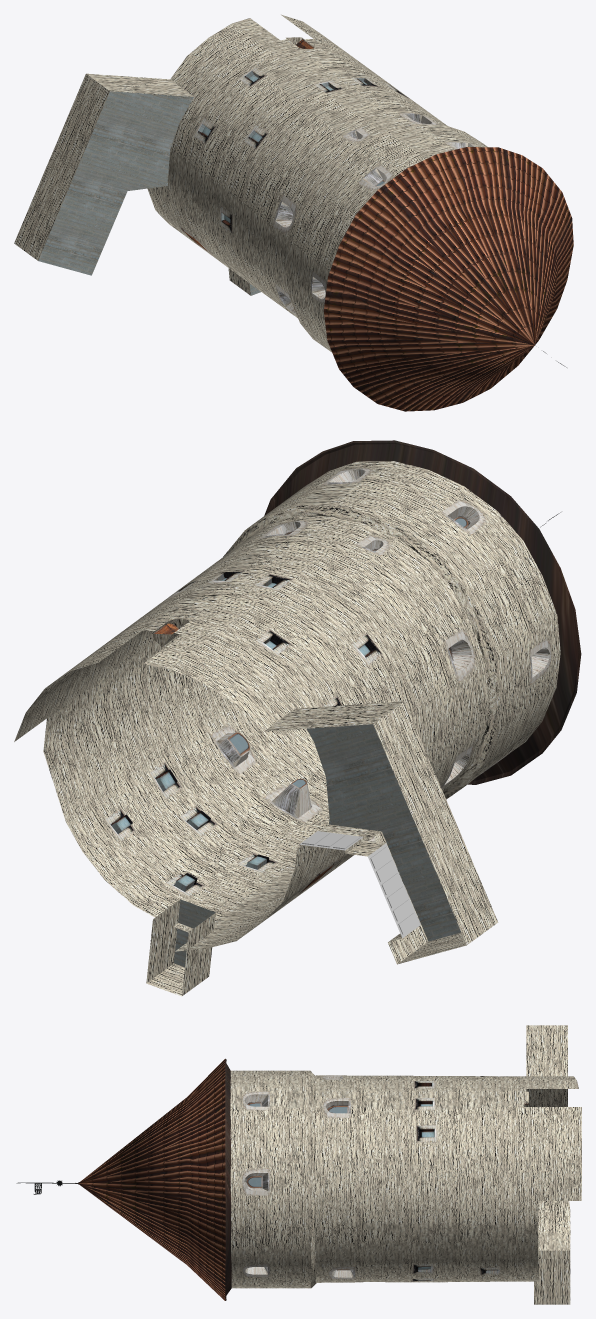
File: Komandandi_2.obj
The picture shows the model from 3 angles, top to bottom: view 1: azimuth 30°, elevation 25°; view 2: azimuth 150°, elevation 25°; view 3: azimuth 270°, elevation 25°; orthographic projection. The views are drawn at different scales.
Visible parts, largest first — view 1: Komandandi_2; view 2: Komandandi_2; view 3: Komandandi_2.
Boxes of the visible parts, left/top/right/bottom form: Komandandi_2: left=14, top=14, right=573, bottom=411; Komandandi_2: left=14, top=440, right=581, bottom=996; Komandandi_2: left=16, top=1025, right=581, bottom=1304.
Size of the model in its own units: 29.83 by 21.42 by 47.19.
